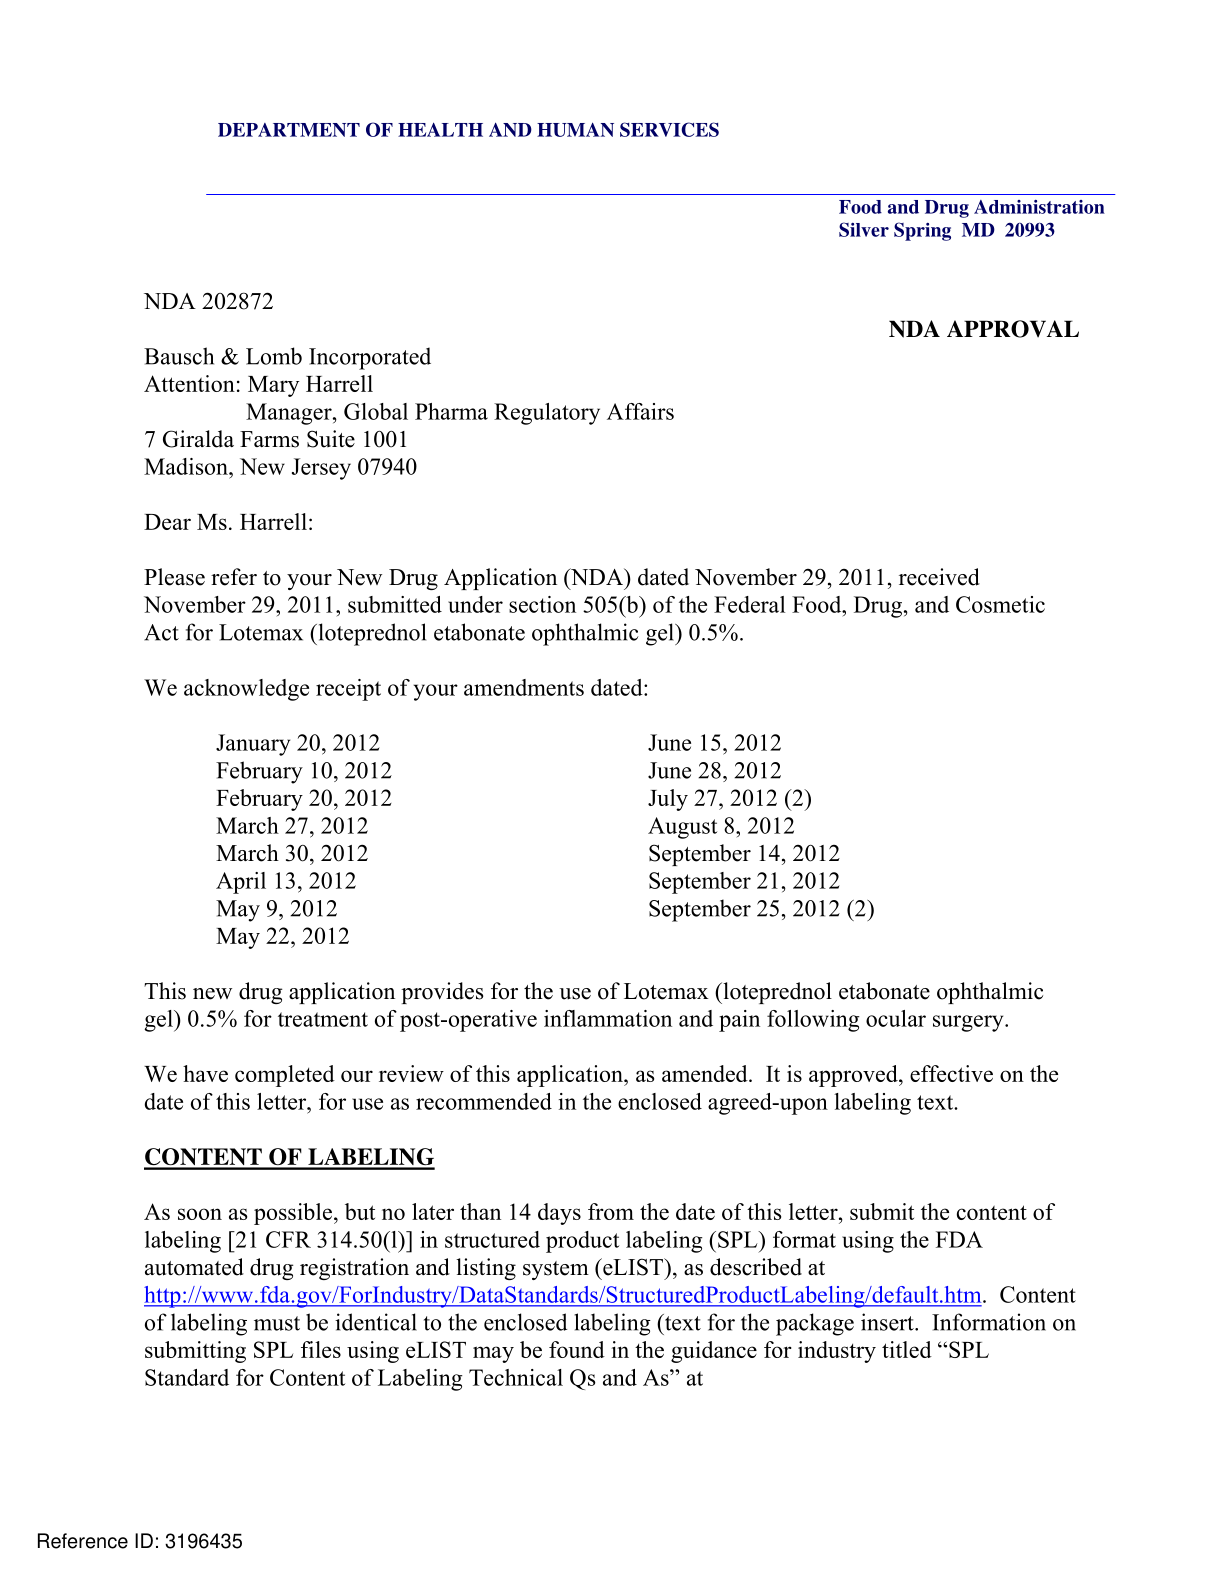nolines: (213, 729, 877, 950)
